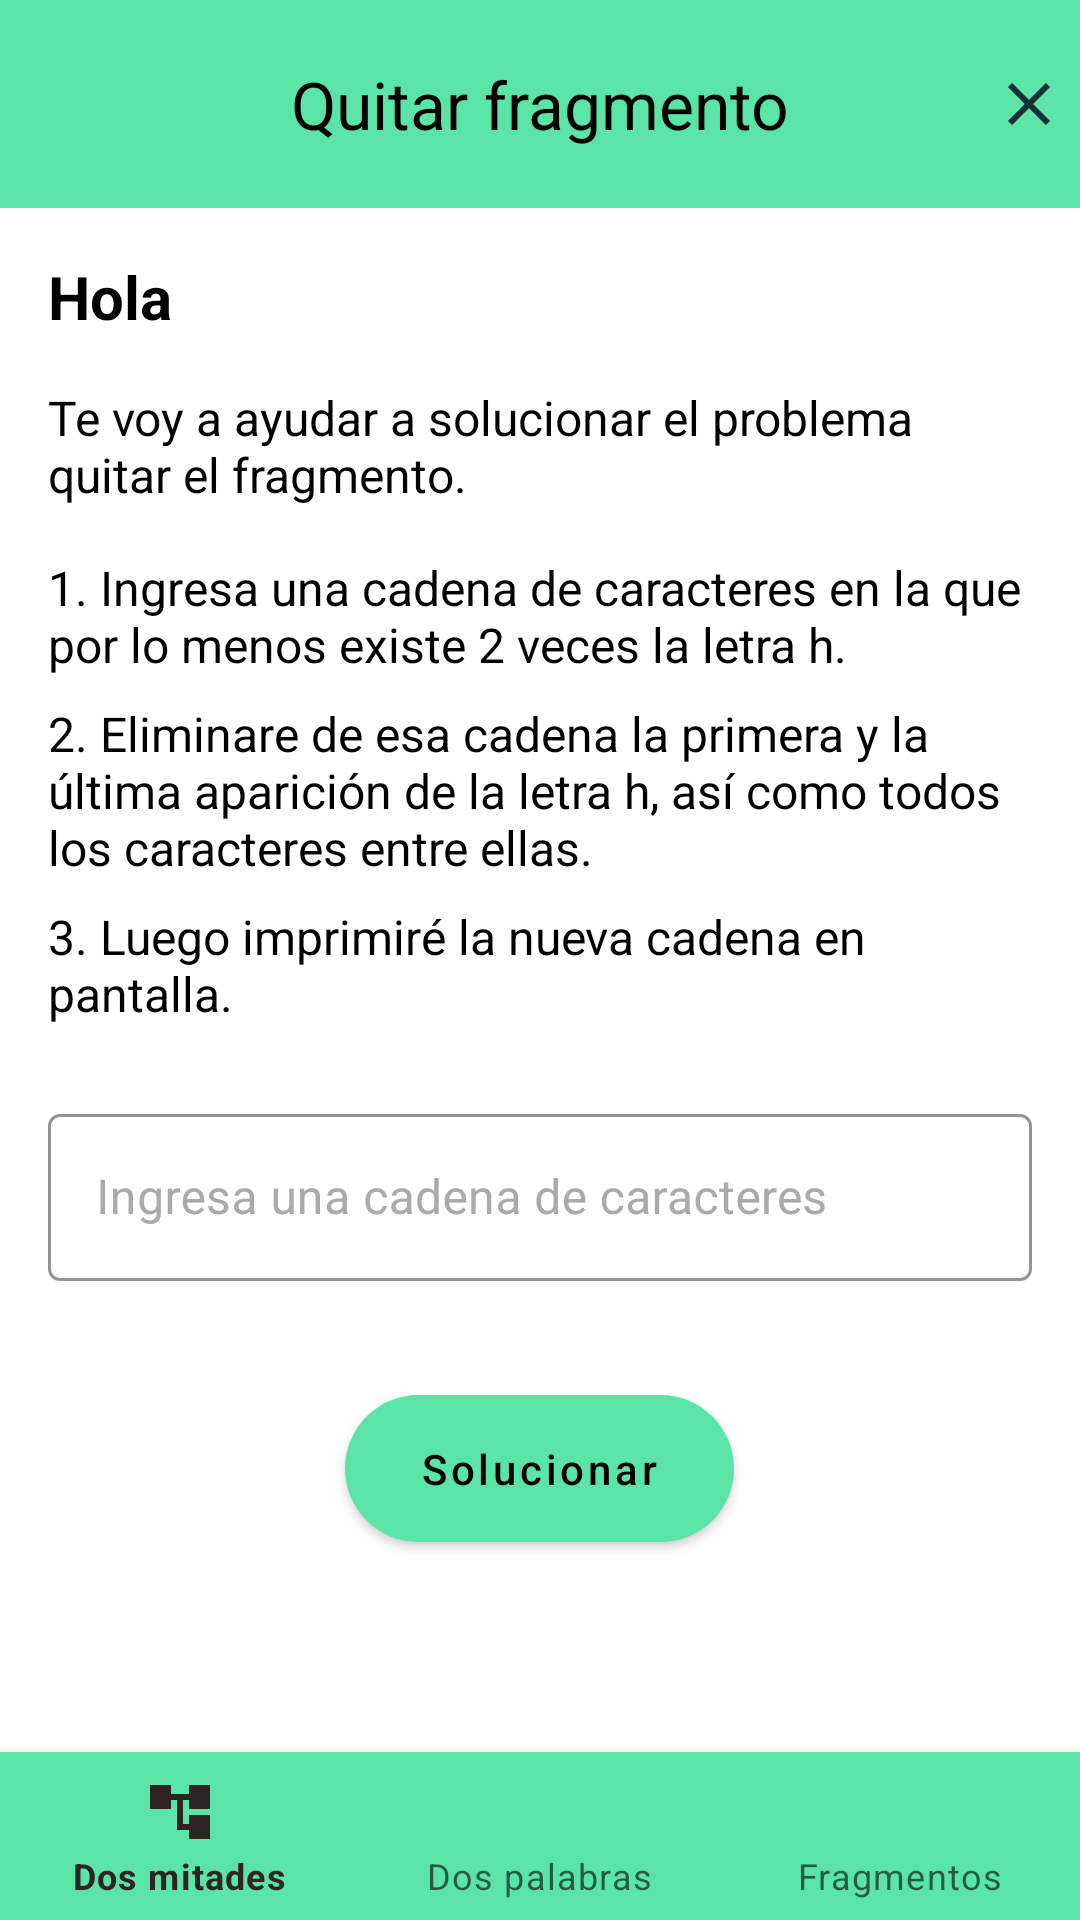

Where to tap for icons on this 1080x1920 app screen, as (x=x, y=y):
exitbtn: (x=1029, y=104)
